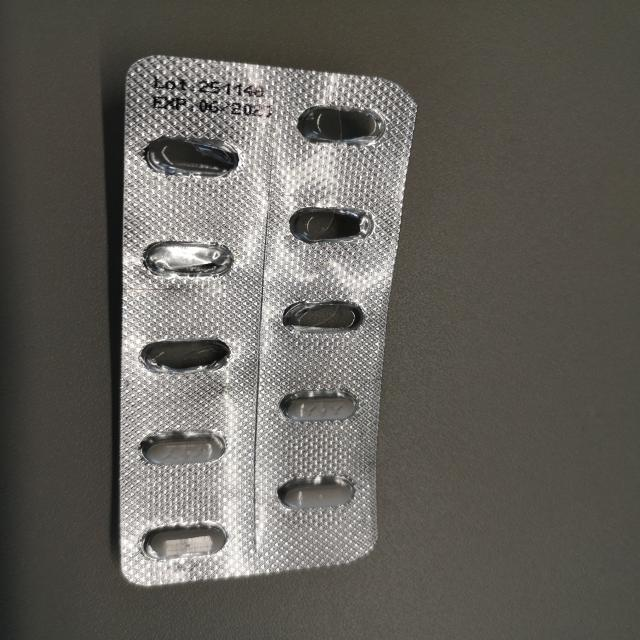Empty: (136, 133, 248, 183), (135, 235, 246, 279), (294, 99, 390, 148), (133, 333, 236, 378), (283, 202, 376, 247), (275, 298, 370, 337)
Pill: (136, 520, 230, 562), (136, 427, 230, 466), (272, 474, 362, 512), (274, 387, 361, 424)
